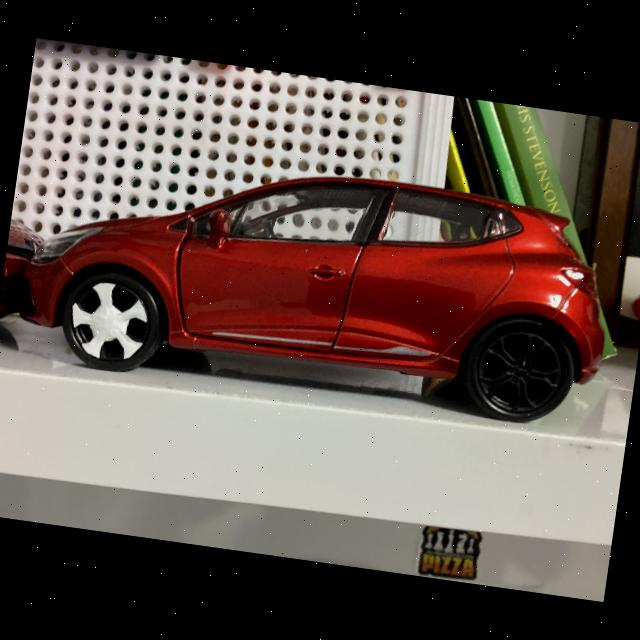Dogru_Jant: (474, 326, 569, 420)
Yanlis_Jant: (64, 278, 154, 368)
